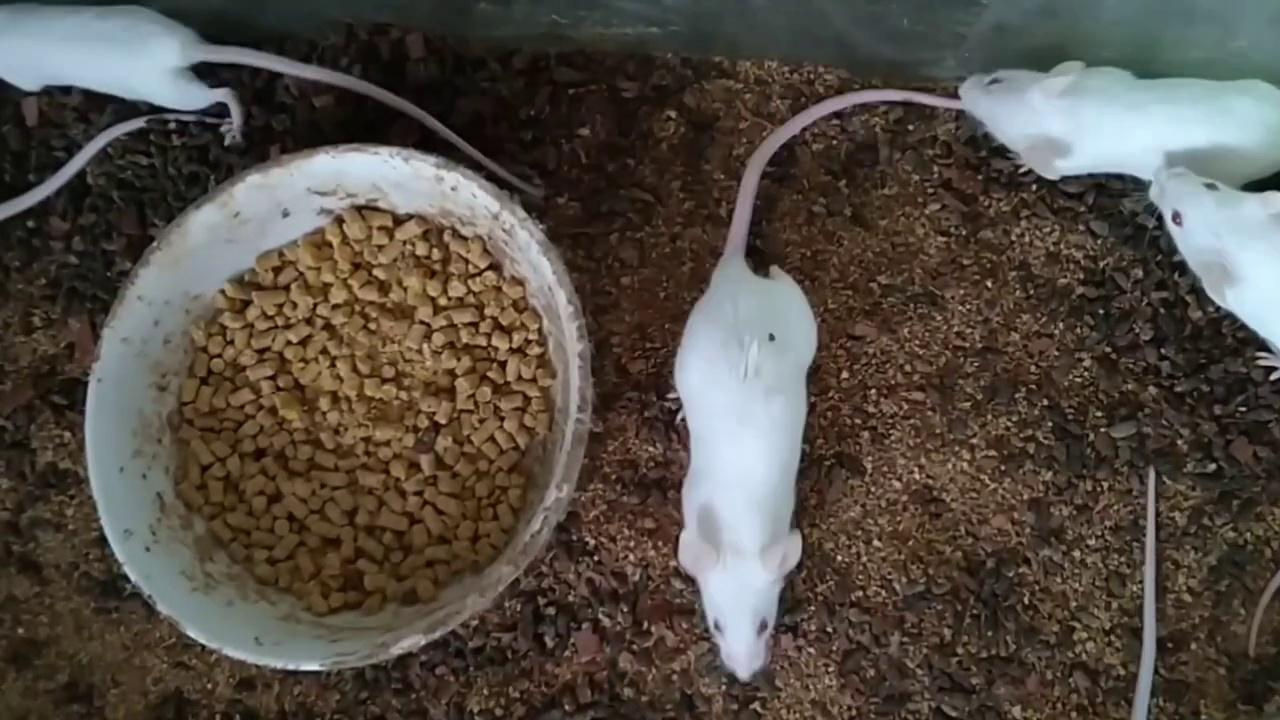rat: (668, 90, 966, 683), (0, 3, 543, 195), (960, 60, 1280, 189), (1150, 167, 1280, 381)
